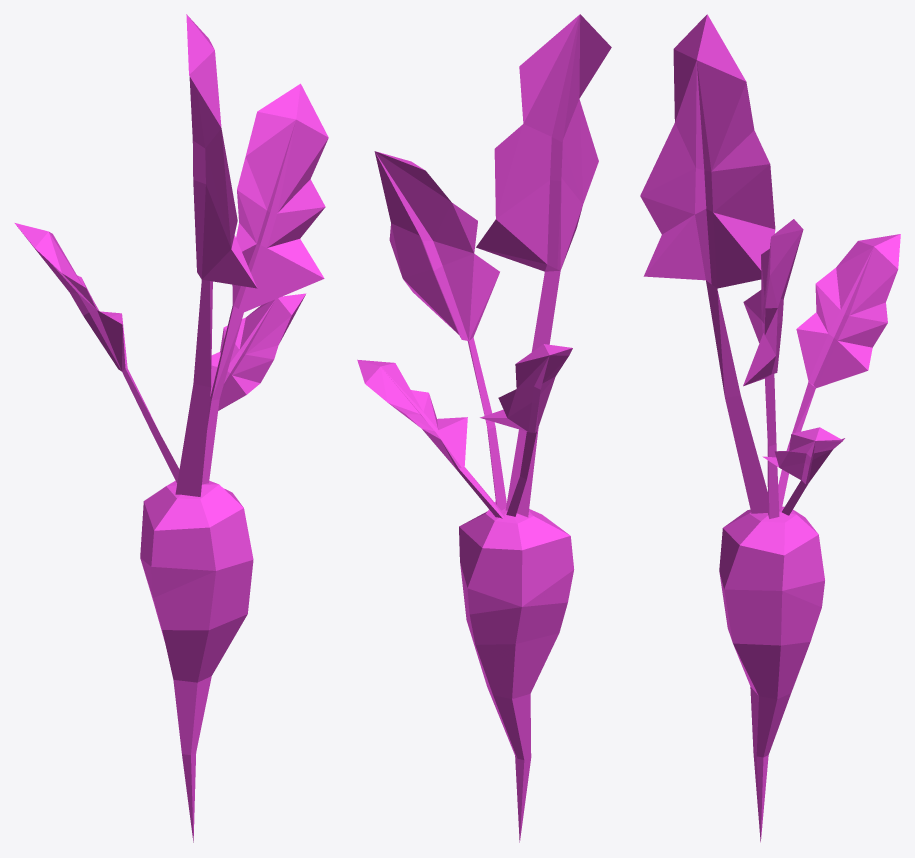
Rendered from SM_Beetroot_Plant_Young_Root.fbx.
3 renders of one model, left to right at view 1: azimuth 30°, elevation 25°; view 2: azimuth 150°, elevation 25°; view 3: azimuth 270°, elevation 25°, orthographic. The views are drawn at different scales.
Parts seen in each view (by area): view 1: SM_Beetroot_Plant_Young_Root; view 2: SM_Beetroot_Plant_Young_Root; view 3: SM_Beetroot_Plant_Young_Root.
Part boxes in pixels (x1,y1,x2,y2): SM_Beetroot_Plant_Young_Root: (14,14,328,842); SM_Beetroot_Plant_Young_Root: (357,14,611,842); SM_Beetroot_Plant_Young_Root: (640,14,900,842).
Size of the model in its own units: 0.2578 by 0.8494 by 0.2467.
